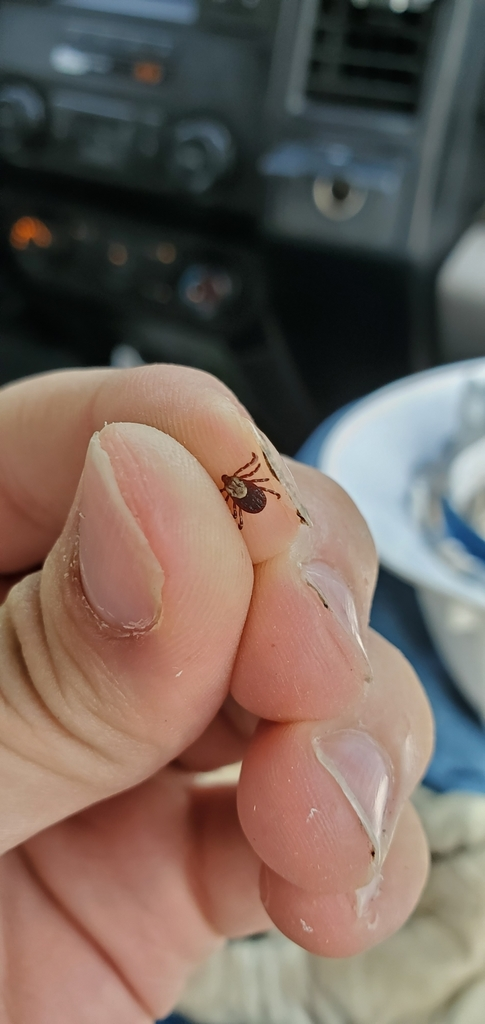garrapata: (199, 448, 288, 534)
